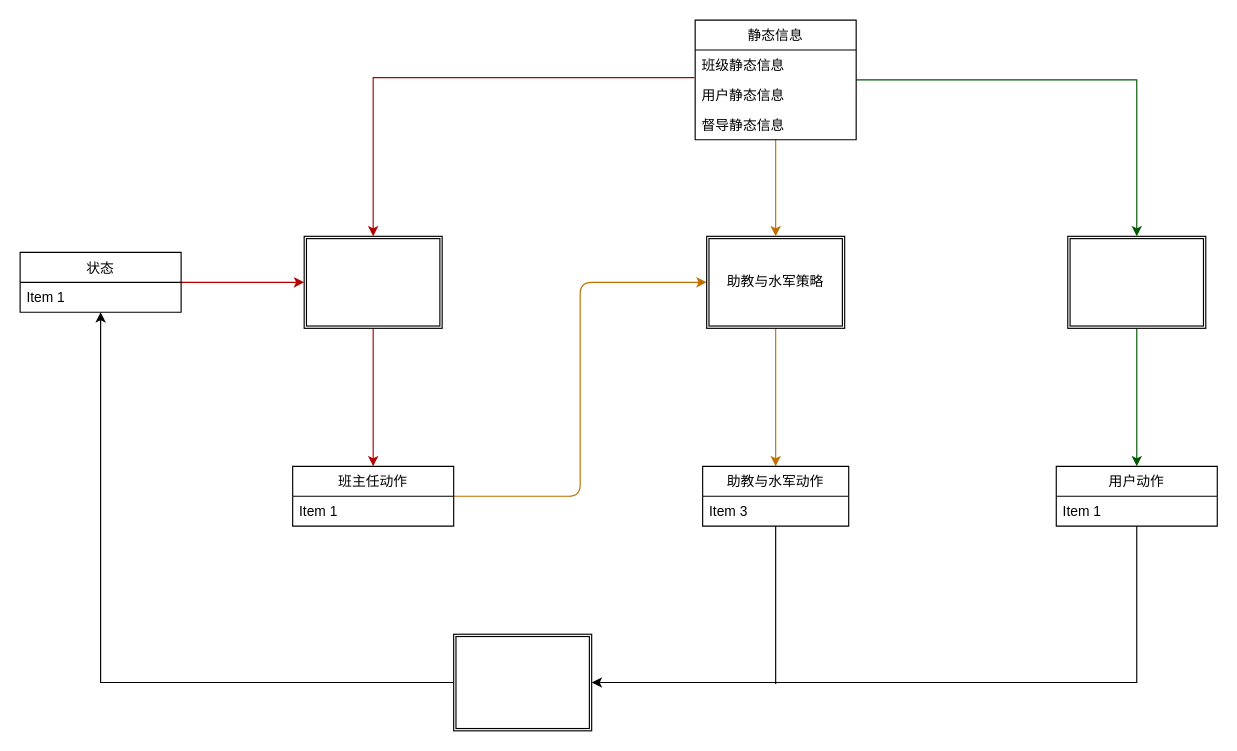
Image size: 1237x751. Some labels were removed from this diagram. The box of each missing label's shape, as (x1, y1, x2, y2) in pixels:
班主任策略: (303, 235, 442, 328)
用户策略: (1067, 235, 1206, 328)
转移策略: (453, 633, 592, 731)
